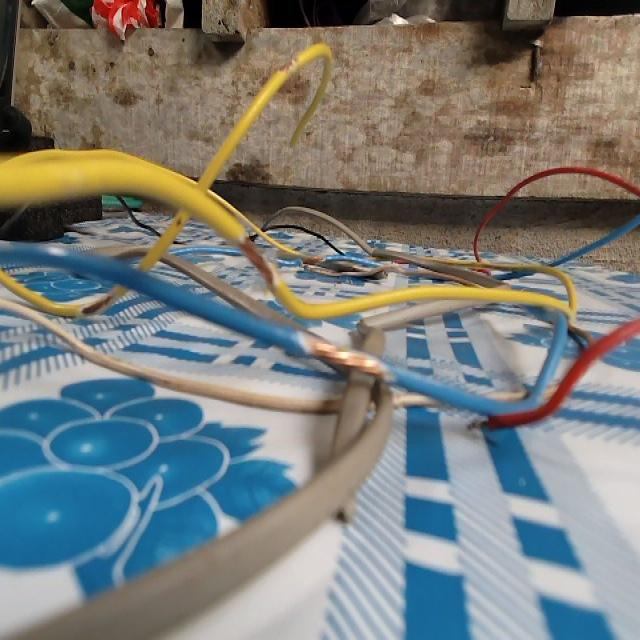-: (290, 328, 398, 389), (235, 228, 281, 292), (80, 288, 117, 320), (297, 249, 328, 272), (464, 412, 495, 433), (276, 54, 301, 78)
